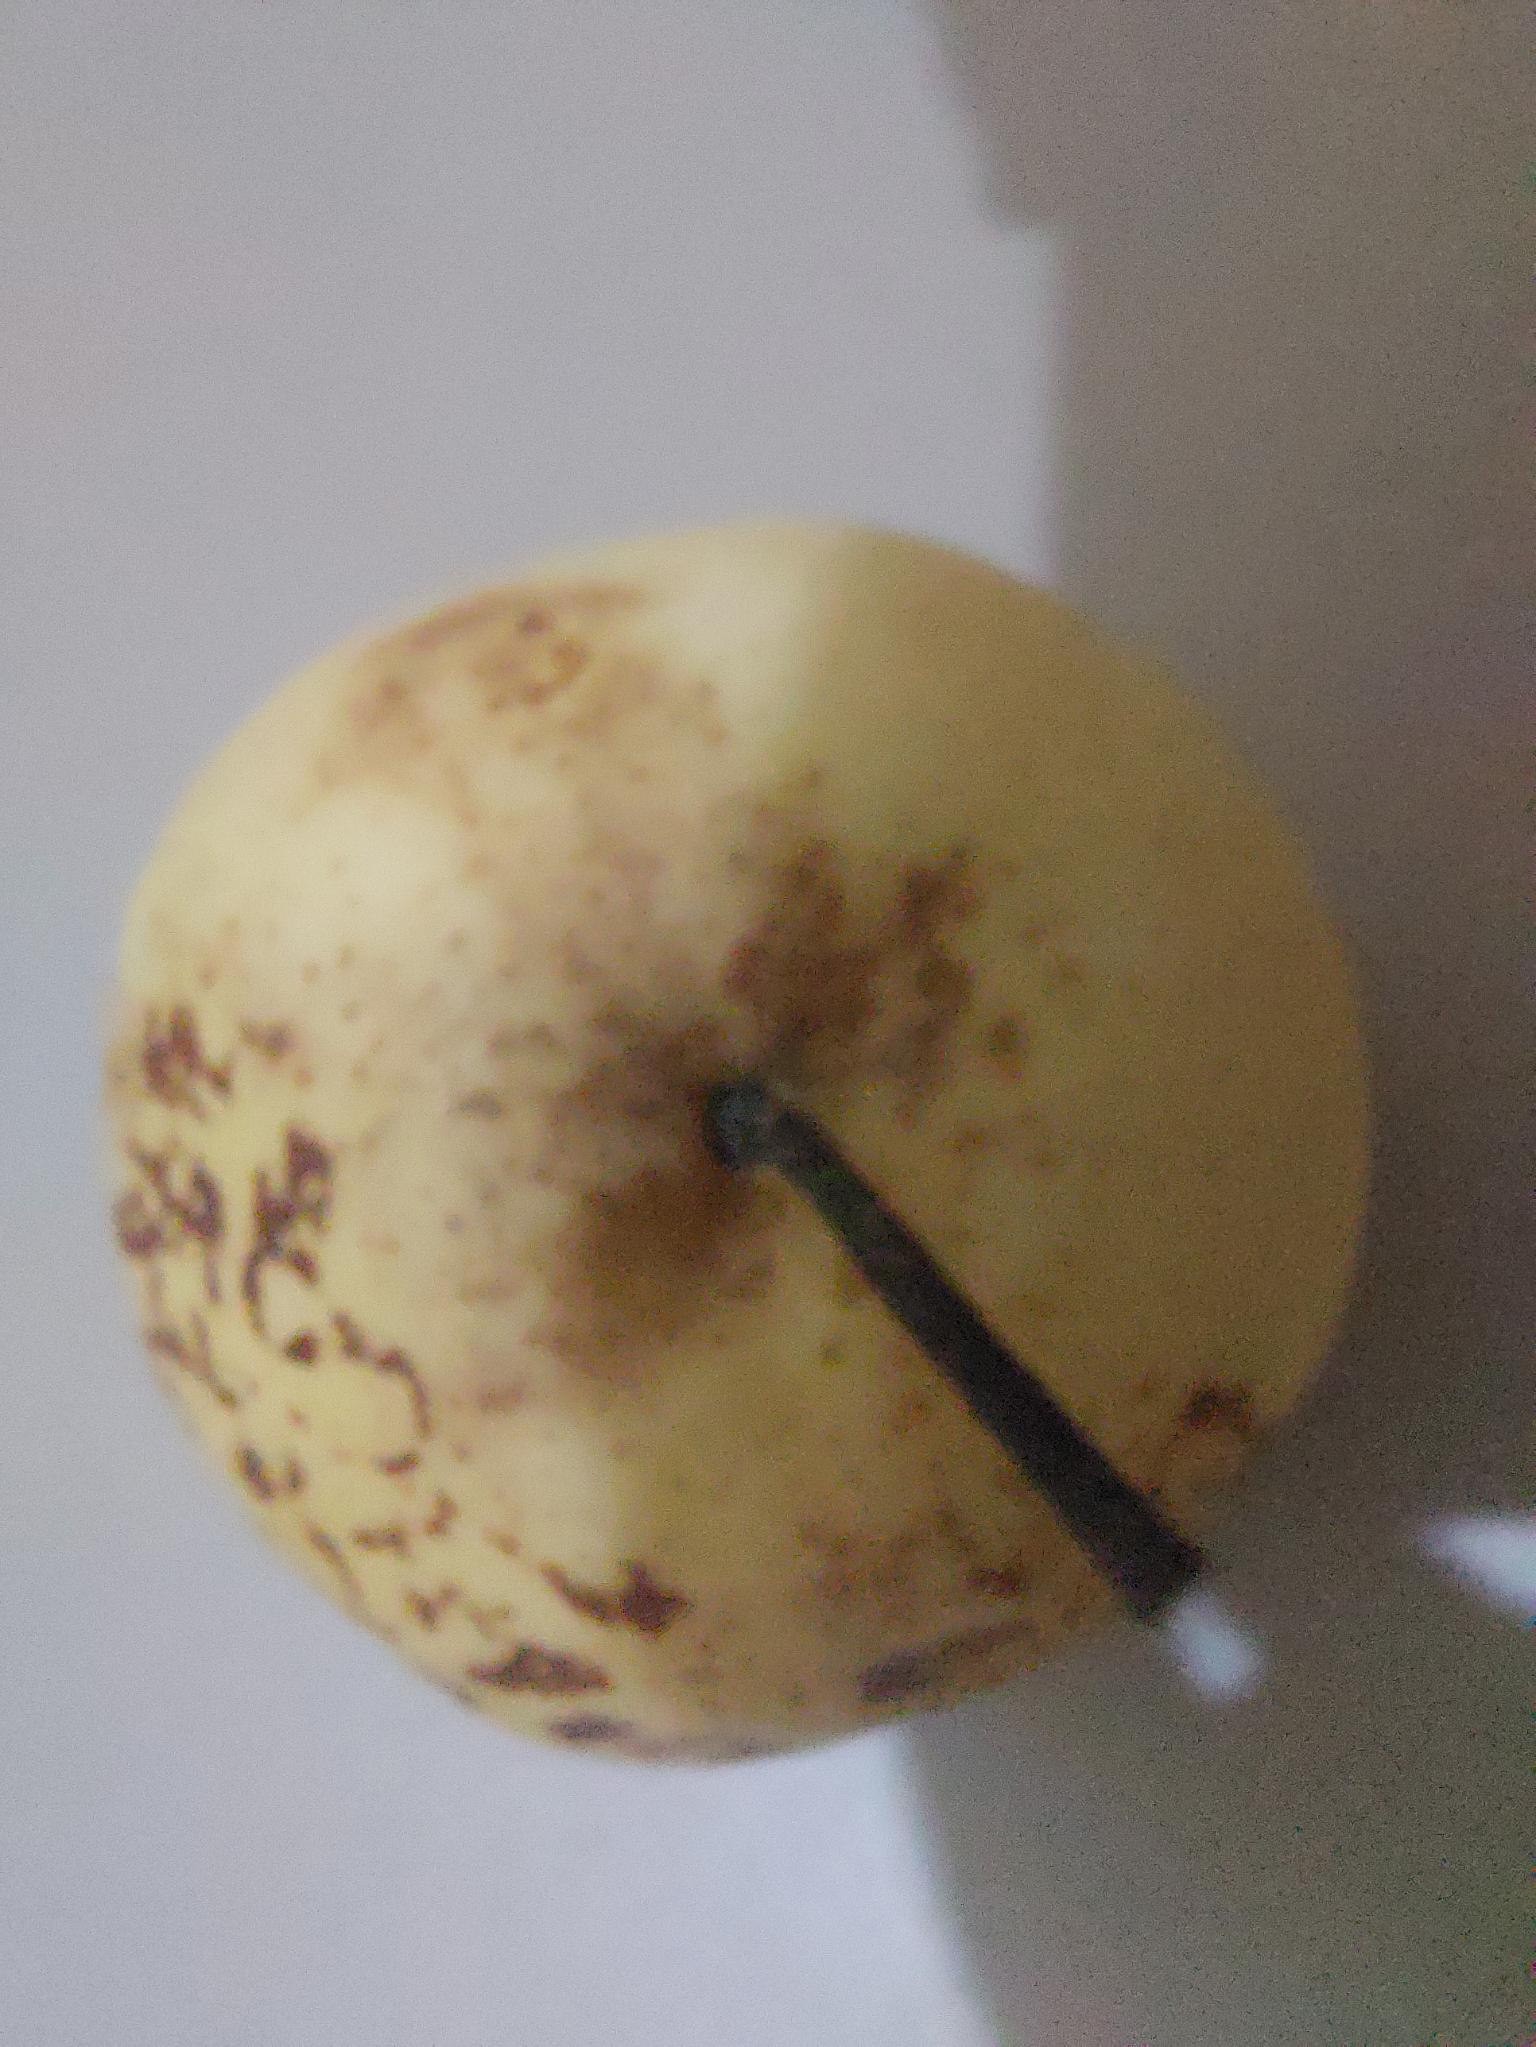Bad Pear: (76, 510, 1402, 1791)
